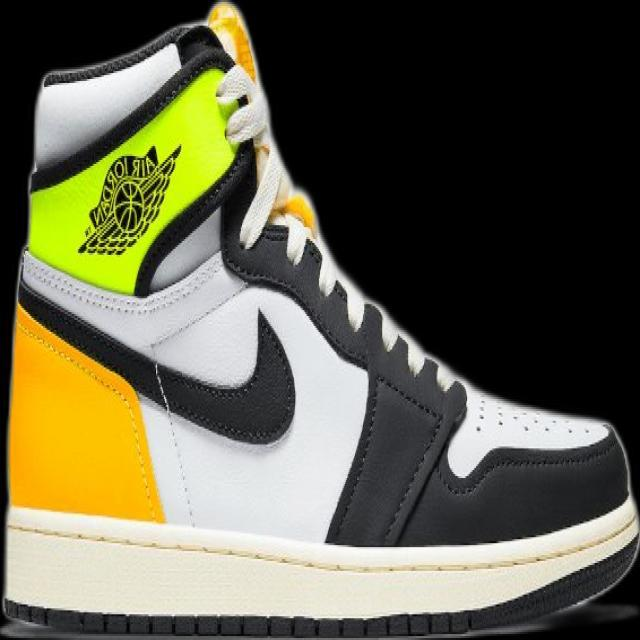J1_InsoleChar: (1, 1, 638, 638)
J1_ShoeLogo: (25, 4, 266, 296), (76, 142, 182, 257)
J1_StitchPattern: (204, 1, 615, 473), (2, 500, 637, 635), (261, 219, 608, 449), (16, 282, 297, 446), (264, 201, 460, 416), (205, 1, 319, 265), (470, 393, 607, 444)
